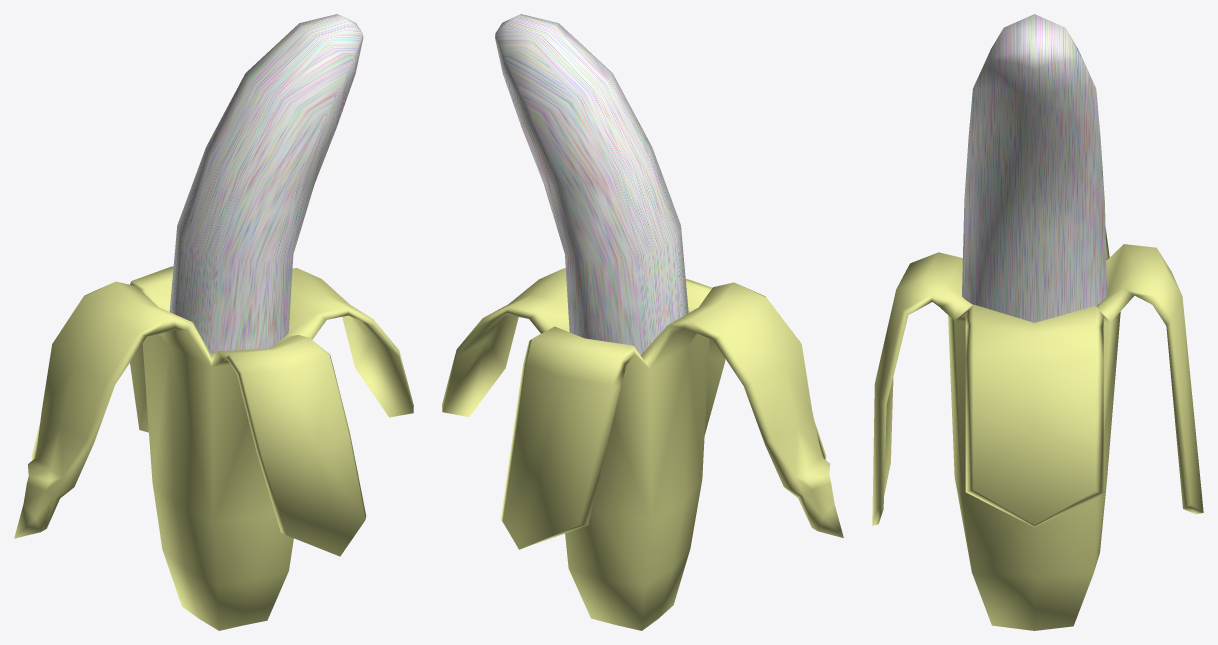
Rendered from banana.obj.
3 renders of one model, left to right at view 1: azimuth 30°, elevation 25°; view 2: azimuth 150°, elevation 25°; view 3: azimuth 270°, elevation 25°, orthographic. The views are drawn at different scales.
Visible parts, largest first — view 1: banana.obj; view 2: banana.obj; view 3: banana.obj.
Boxes of the visible parts, x1,y1,x2,y2 form: banana.obj: (14,14,413,630); banana.obj: (442,14,843,630); banana.obj: (872,14,1203,630).
Size of the model in its own units: 0.3826 by 0.5619 by 0.2552.
